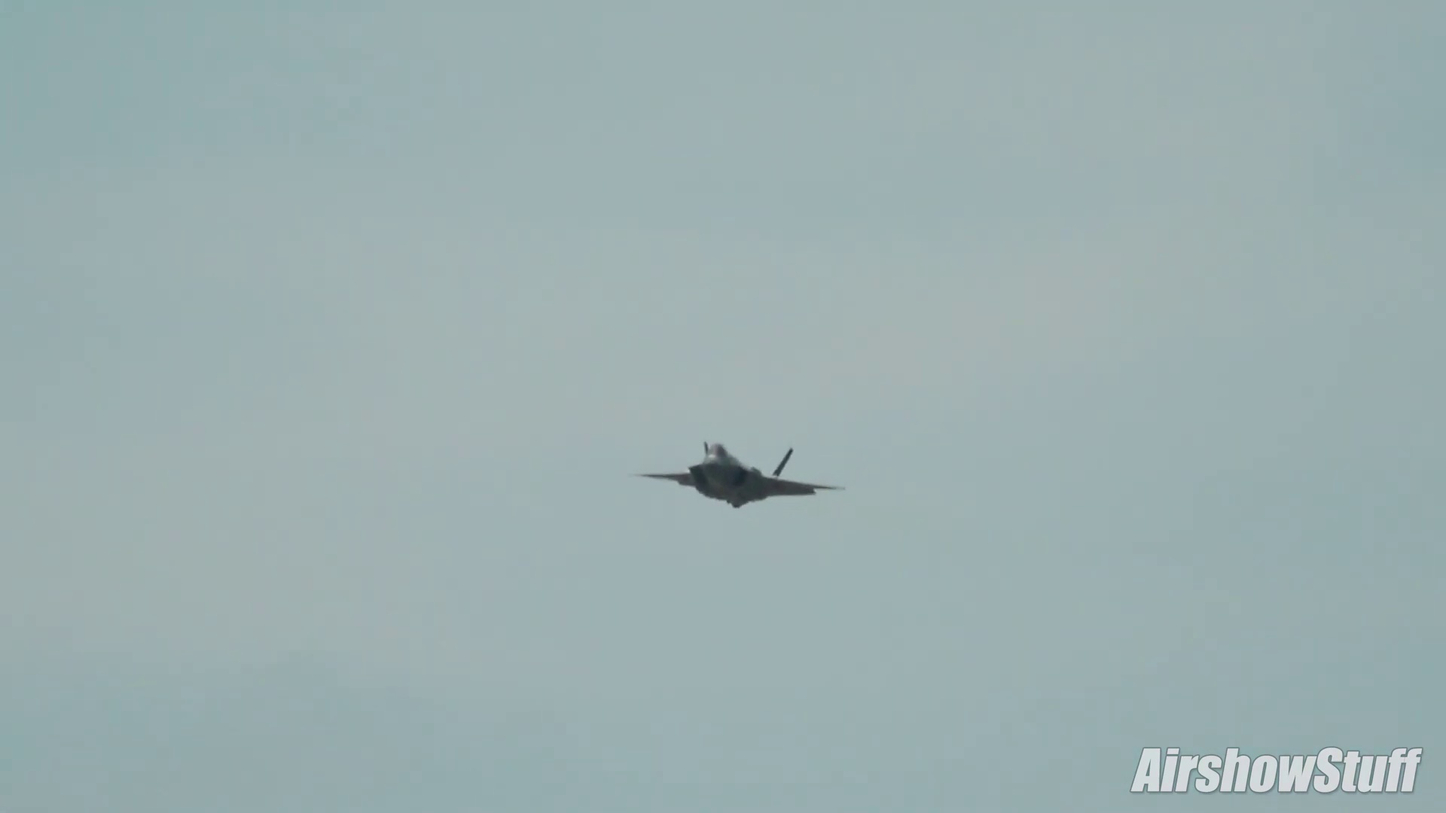F35: (629, 433, 849, 522)
